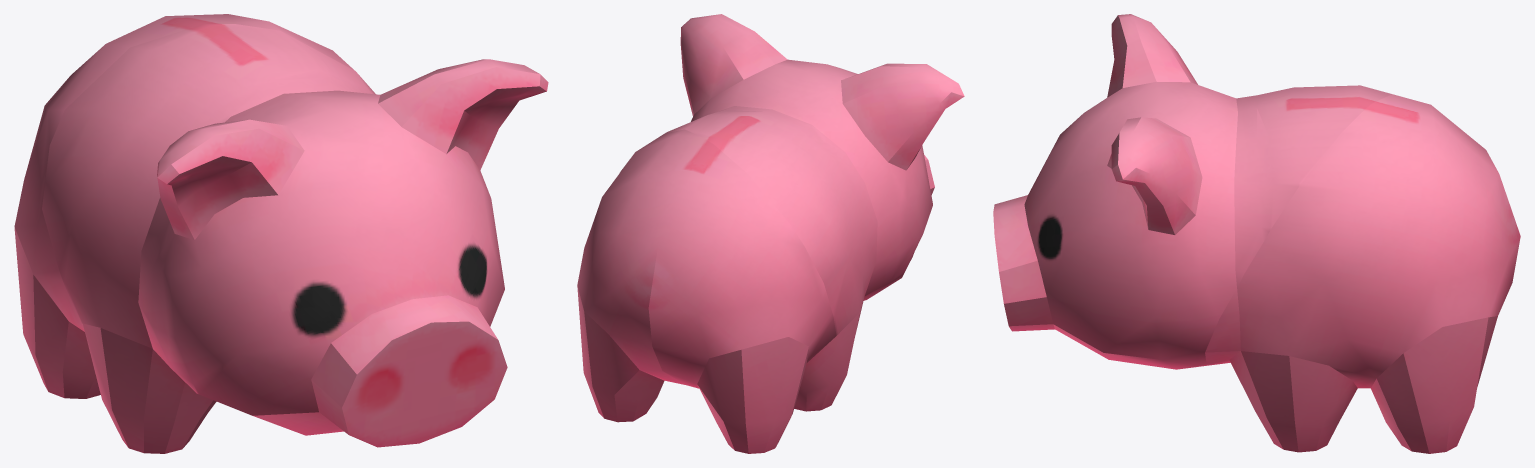
Rendered from pib break.fbx.
The picture shows the model from 3 angles, left to right: view 1: azimuth 30°, elevation 25°; view 2: azimuth 150°, elevation 25°; view 3: azimuth 270°, elevation 25°; orthographic projection. The views are drawn at different scales.
Visible parts, largest first — view 1: Pig.008, Pig, Pig.009, Pig.001, Pig.002, Pig.003, Pig.007, Pig.004; view 2: Pig.007, Pig, Pig.008, Pig.004, Pig.001, Pig.002, Pig.006, Pig.003; view 3: Pig.007, Pig.008, Pig, Pig.006, Pig.005, Pig.002, Pig.009, Pig.001.
Part boxes in pixels (<box>): Pig.008: <box>138,90,504,435</box>; Pig: <box>42,24,373,348</box>; Pig.009: <box>311,295,507,447</box>; Pig.001: <box>157,119,304,239</box>; Pig.002: <box>378,59,548,170</box>; Pig.003: <box>82,323,216,453</box>; Pig.007: <box>14,14,375,331</box>; Pig.004: <box>14,228,100,398</box>; Pig.007: <box>577,129,836,388</box>; Pig: <box>666,106,877,335</box>; Pig.008: <box>691,59,932,300</box>; Pig.004: <box>697,337,808,453</box>; Pig.001: <box>841,63,964,170</box>; Pig.002: <box>680,14,787,116</box>; Pig.006: <box>577,286,664,422</box>; Pig.003: <box>794,300,863,411</box>; Pig.007: <box>1205,94,1520,388</box>; Pig.008: <box>1024,82,1237,369</box>; Pig: <box>1234,85,1391,287</box>; Pig.006: <box>1371,316,1497,453</box>; Pig.005: <box>1229,351,1357,452</box>; Pig.002: <box>1107,117,1202,234</box>; Pig.009: <box>993,195,1054,331</box>; Pig.001: <box>1107,14,1197,97</box>.
Size of the model in its own units: 51.49 by 50.34 by 72.58.
